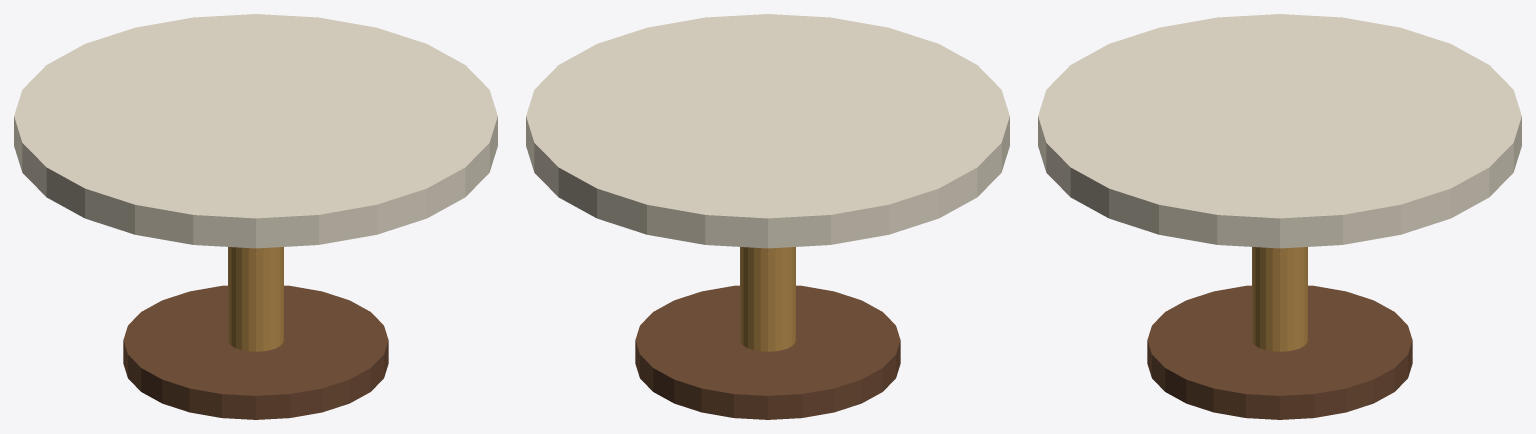
File: guest_table.glb
3 renders of one model, left to right at view 1: azimuth 30°, elevation 25°; view 2: azimuth 150°, elevation 25°; view 3: azimuth 270°, elevation 25°, orthographic.
Parts seen in each view (by area): view 1: guest_table; view 2: guest_table; view 3: guest_table.
Part boxes in pixels (bbox=[...]): guest_table: bbox=[14, 14, 497, 419]; guest_table: bbox=[526, 14, 1009, 419]; guest_table: bbox=[1038, 14, 1521, 419].
Size of the model in its own units: 1.46 by 0.825 by 1.46.
